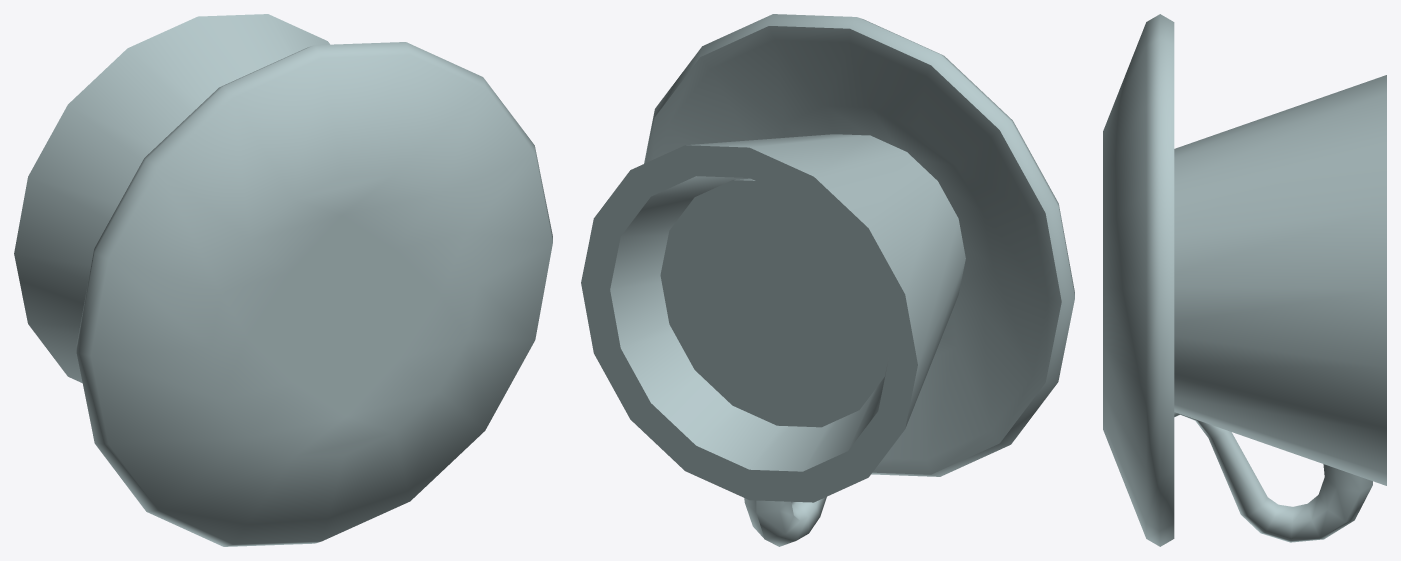
Rendered from cupteaa 1.fbx.
3 renders of one model, left to right at view 1: azimuth 30°, elevation 25°; view 2: azimuth 150°, elevation 25°; view 3: azimuth 270°, elevation 25°, orthographic. The views are drawn at different scales.
Parts seen in each view (by area): view 1: Tea_Cup; view 2: Tea_Cup, Tea; view 3: Tea_Cup.
Boxes of the visible parts, bbox=[...] form: Tea_Cup: bbox=[14, 14, 552, 546]; Tea_Cup: bbox=[581, 14, 1074, 546]; Tea: bbox=[660, 178, 888, 427]; Tea_Cup: bbox=[1103, 14, 1386, 546].
Bounding box in the file's own units: 14.42 × 27.1 × 28.24.
